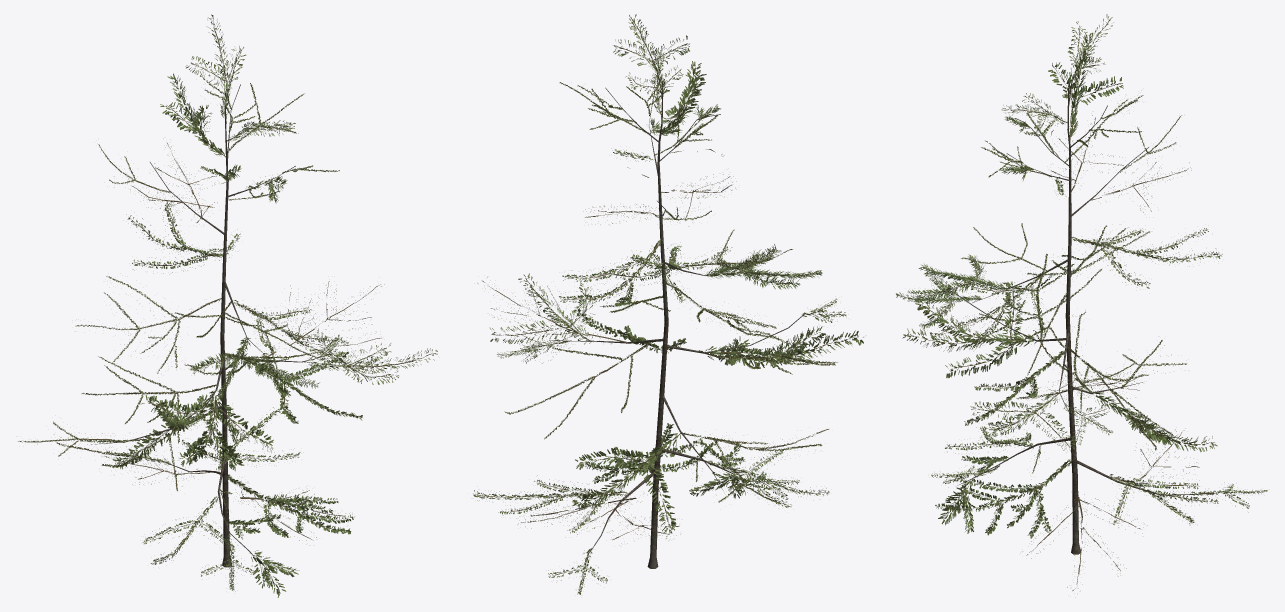
The model's file is fir_sapling_lod1.gltf.
The picture shows the model from 3 angles, left to right: view 1: azimuth 30°, elevation 25°; view 2: azimuth 150°, elevation 25°; view 3: azimuth 270°, elevation 25°; orthographic projection. The views are drawn at different scales.
Parts seen in each view (by area): view 1: specter-fir-sapling-lod1; view 2: specter-fir-sapling-lod1; view 3: specter-fir-sapling-lod1.
Part boxes in pixels (bbox=[...]): specter-fir-sapling-lod1: bbox=[18, 14, 437, 597]; specter-fir-sapling-lod1: bbox=[473, 14, 863, 594]; specter-fir-sapling-lod1: bbox=[896, 14, 1267, 597].
Size of the model in its own units: 0.8606 by 1.3 by 0.8218.
2 materials, 2 textured.
